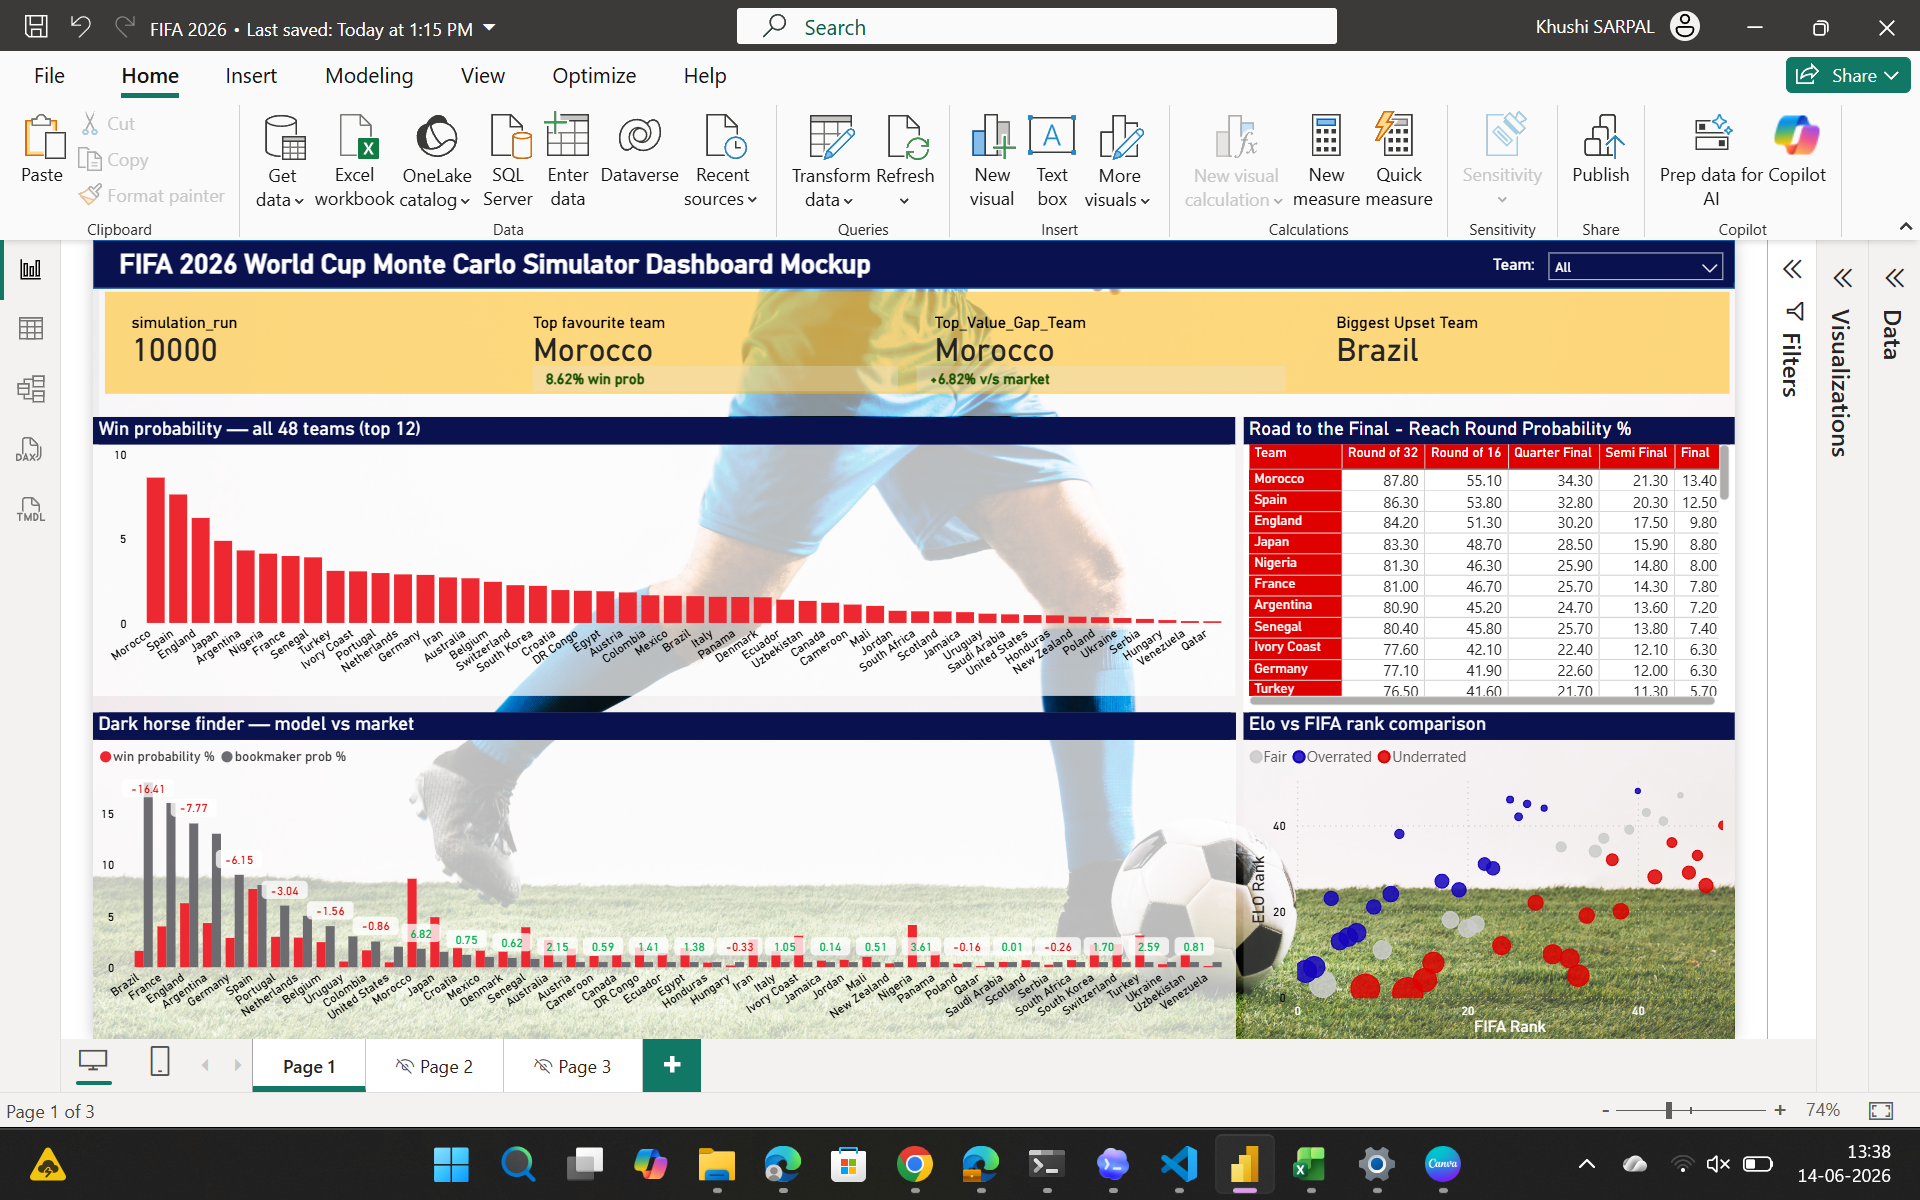

The dashboard page shown, as its layout file describes it:
{"tool":"powerbi","page":{"name":"Page 1","canvas":[1480,720],"ordinal":0},"visuals":[{"type":"cardVisual","fields":{"Data":["simulation_results.simulation_run","simulation_results.Top favourite team","simulation_results.Biggest_Dark_Horse","simulation_results.Biggest Upset Team"]},"box":[5.3,43.8,1474.2,115.6],"z":0},{"type":"cardVisual","fields":{"Data":["simulation_results.top win prob"]},"box":[395.7,113.8,329.2,22.8],"z":1000},{"type":"cardVisual","fields":{"Data":["simulation_results.max value gap"]},"box":[742.3,113.8,332.7,22.8],"z":2000},{"type":"clusteredColumnChart","title":"Win probability — all 48 teams (top 12)","fields":{"Category":["simulation_results.team"],"Y":["Sum(simulation_results.win_probability_%)"]},"box":[0,159.9,1029.6,251.3],"z":3000},{"type":"clusteredColumnChart","title":"Dark horse finder — model vs market","fields":{"Category":["simulation_results.team"],"Y":["Sum(simulation_results.win_probability_%)","Sum(simulation_results.bookmaker_prob_%)"]},"box":[0,425.2,1030,295.2],"z":4000},{"type":"shape","box":[0,0,1479.4,43.8],"z":5000},{"type":"actionButton","box":[0,0,724.8,40.3],"z":6000},{"type":"scatterChart","title":"Elo vs FIFA rank comparison","fields":{"X":["simulation_results (2).fifa_ranking"],"Y":["simulation_results (2).elo_rank"],"Size":["Sum(simulation_results (2).win_probability_%)"],"Series":["simulation_results (2).Rank Difference Label"]},"box":[1036.7,425.2,442.8,295.2],"z":7000},{"type":"pivotTable","title":"Road to the Final - Reach Round Probability %","fields":{"Rows":["path_data.team"],"Columns":["path_data.round"],"Values":["Max(path_data.reach_round_probability_%)"]},"box":[1036.7,159.9,442.8,265.3],"z":8000},{"type":"slicer","fields":{"Values":["simulation_results.team"]},"box":[1302,1.8,177.5,36.9],"z":9000},{"type":"actionButton","box":[1229.9,1.8,100.2,40.4],"z":10000}]}

Visuals, with their boxes on the page's 1480x720 design canvas (x1, y1, x2, y2). These are canvas units, not pixel positions in the 1920x1200 screenshot, which may show the page scaled, cropped or inside an application window:
cardVisual - simulation_results.simulation_run x simulation_results.Top favourite team: <region>5, 44, 1480, 159</region>
cardVisual - simulation_results.top win prob: <region>396, 114, 725, 137</region>
cardVisual - simulation_results.max value gap: <region>742, 114, 1075, 137</region>
"Win probability — all 48 teams (top 12)" clusteredColumnChart: <region>0, 160, 1030, 411</region>
"Dark horse finder — model vs market" clusteredColumnChart: <region>0, 425, 1030, 720</region>
shape: <region>0, 0, 1479, 44</region>
actionButton: <region>0, 0, 725, 40</region>
"Elo vs FIFA rank comparison" scatterChart: <region>1037, 425, 1480, 720</region>
"Road to the Final - Reach Round Probability %" pivotTable: <region>1037, 160, 1480, 425</region>
slicer - simulation_results.team: <region>1302, 2, 1480, 39</region>
actionButton: <region>1230, 2, 1330, 42</region>
